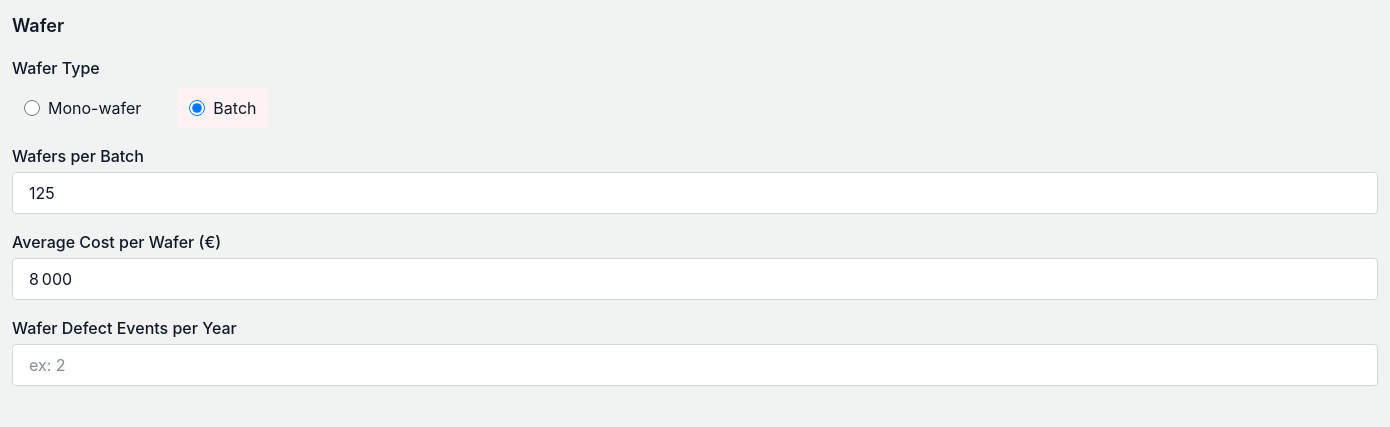
Test: WaferInputs › clears quantity error when switching wafer type
# Create error
Replace the text in the number field labelled "Wafers per Batch" with "0" at {"x": 695, "y": 193}, box 12,172 -> 1378,214
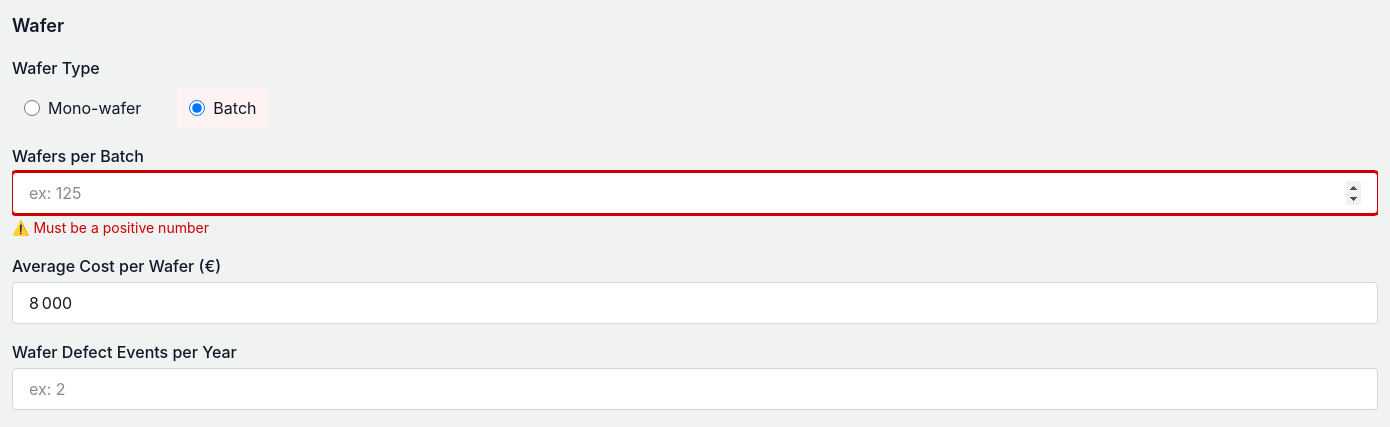
Check: the text "⚠️ Must be a positive number" is shown, box 12,219 -> 209,236
# Switch to mono — error should clear
Click the radio button labelled "Mono-wafer" at {"x": 32, "y": 108}, box 24,100 -> 40,116
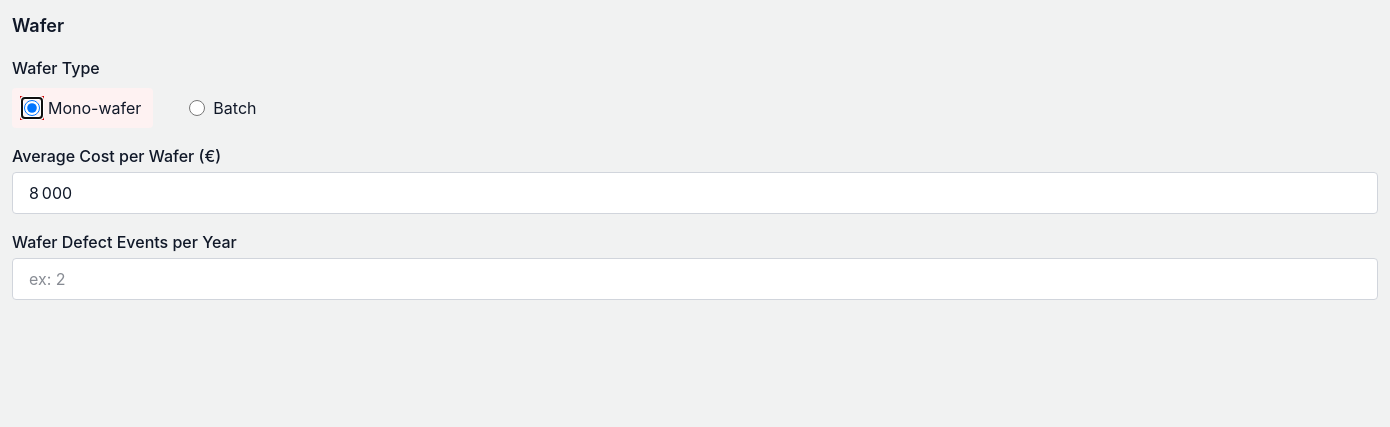
Check: the text "Must be a positive number" is gone
